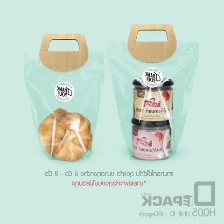snack: (100, 17, 205, 167), (18, 28, 109, 166)
